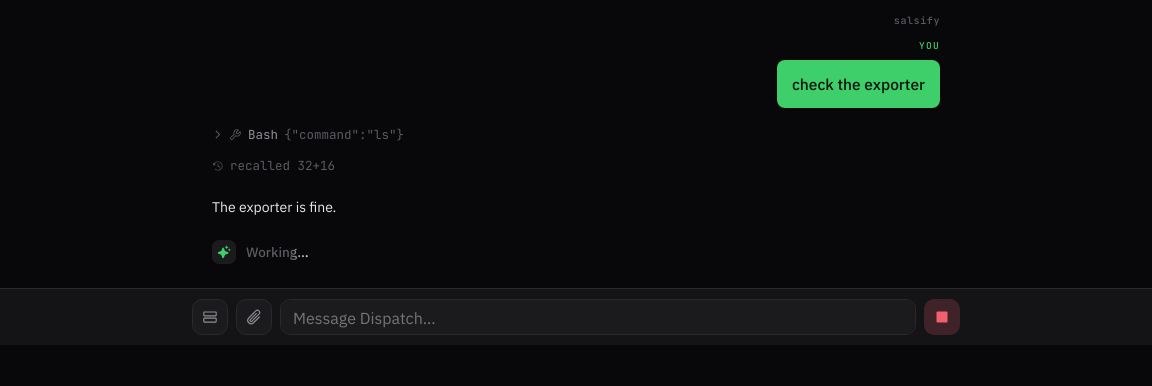
Scenario: EndlessColumn › shows the error when Stop is refused (409), with no unhandled rejection
Click the button named "Stop" at {"x": 942, "y": 318}, box left=924, top=300, right=960, bottom=336
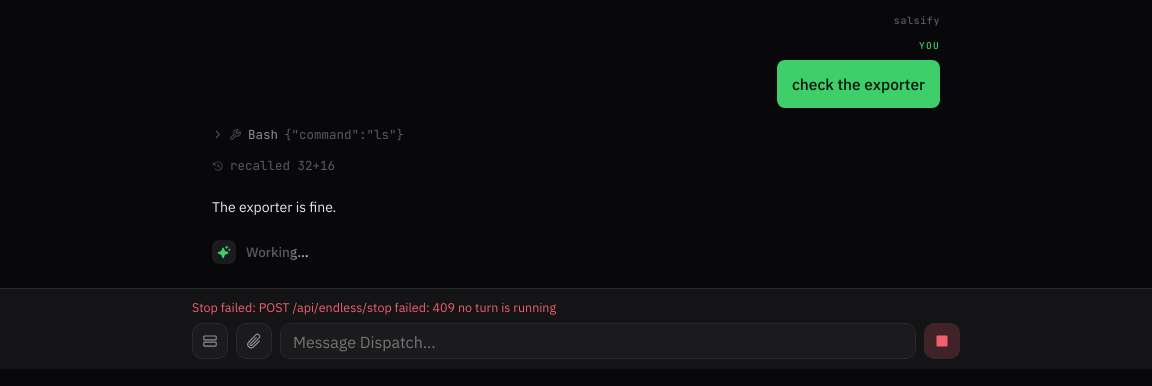
Check: the text "Stop failed: POST /api/endless/stop failed: 409 no turn is running" is shown, box left=192, top=300, right=556, bottom=316
